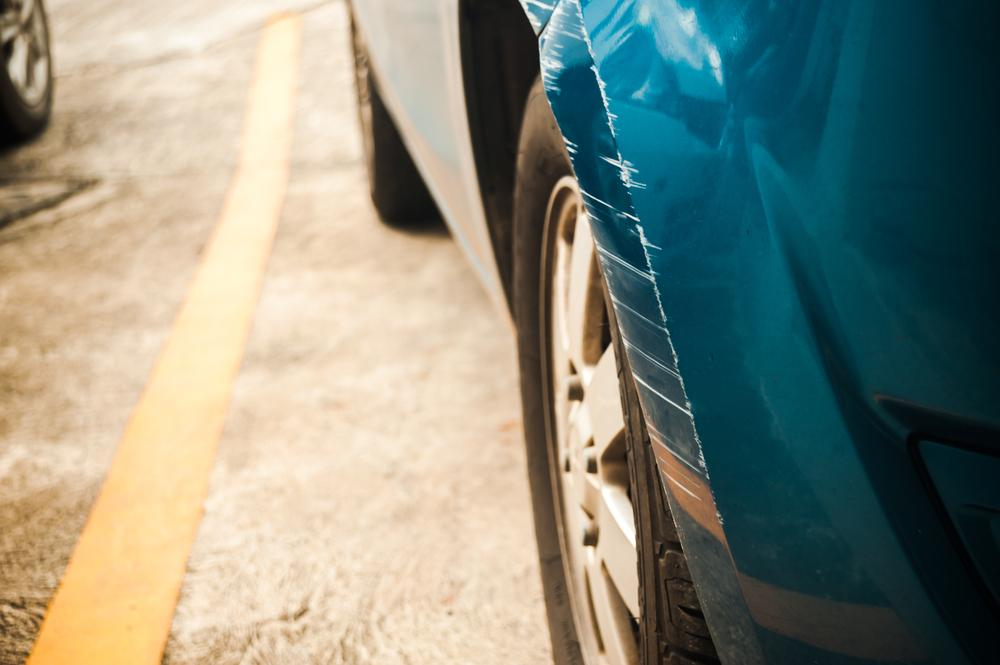scratch: (518, 0, 733, 530)
